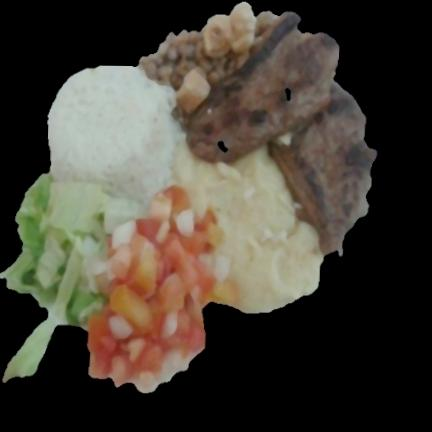beans: (139, 12, 260, 127)
meat: (189, 12, 369, 261)
potato: (173, 132, 324, 314)
rice: (45, 66, 181, 207)
salad: (0, 172, 146, 387)
tomato: (85, 184, 236, 384)
